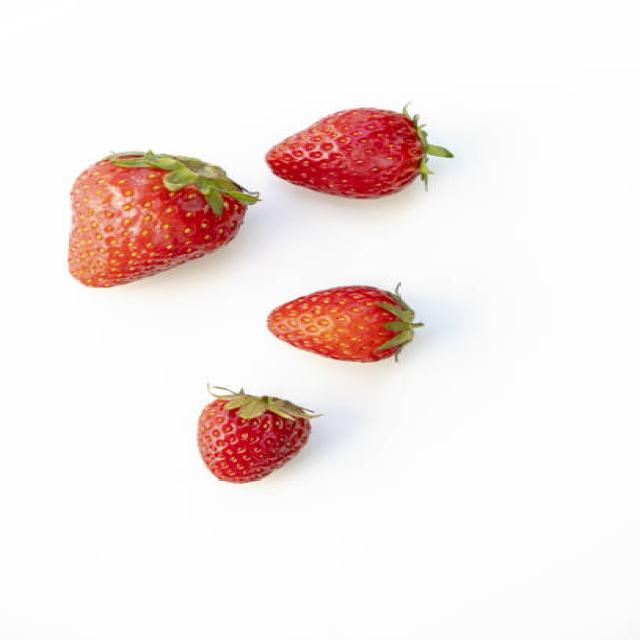Healthy Fruit: (68, 148, 249, 289), (263, 106, 421, 200), (265, 284, 408, 362), (197, 394, 311, 484)
